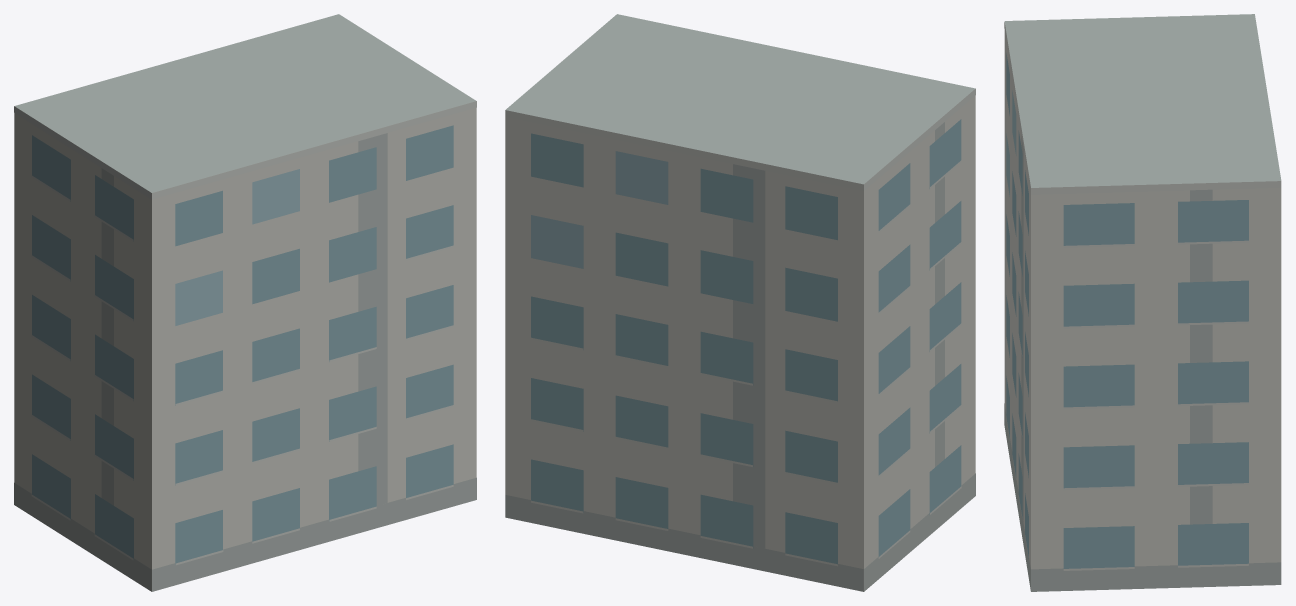
Rendered from survey-upis-32894215.glb.
3 views of the same model, side by side, from view 1: azimuth 30°, elevation 25°; view 2: azimuth 150°, elevation 25°; view 3: azimuth 270°, elevation 25° (orthographic). The views are drawn at different scales.
Visible parts, largest first — view 1: survey-upis-32894215.tmp; view 2: survey-upis-32894215.tmp; view 3: survey-upis-32894215.tmp.
Part boxes in pixels (x1=…): survey-upis-32894215.tmp: x1=14, y1=14, x2=476, y2=591; survey-upis-32894215.tmp: x1=505, y1=14, x2=975, y2=591; survey-upis-32894215.tmp: x1=1004, y1=14, x2=1281, y2=591.
Size of the model in its own units: 13.5 by 14.6 by 9.08.
